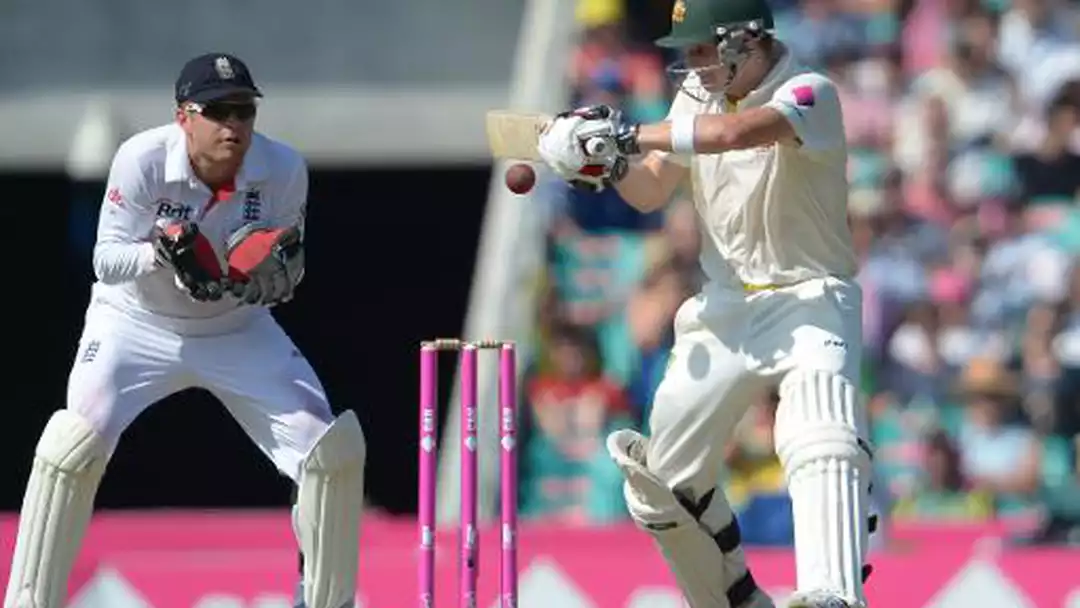Cutshot: (402, 2, 982, 608)
